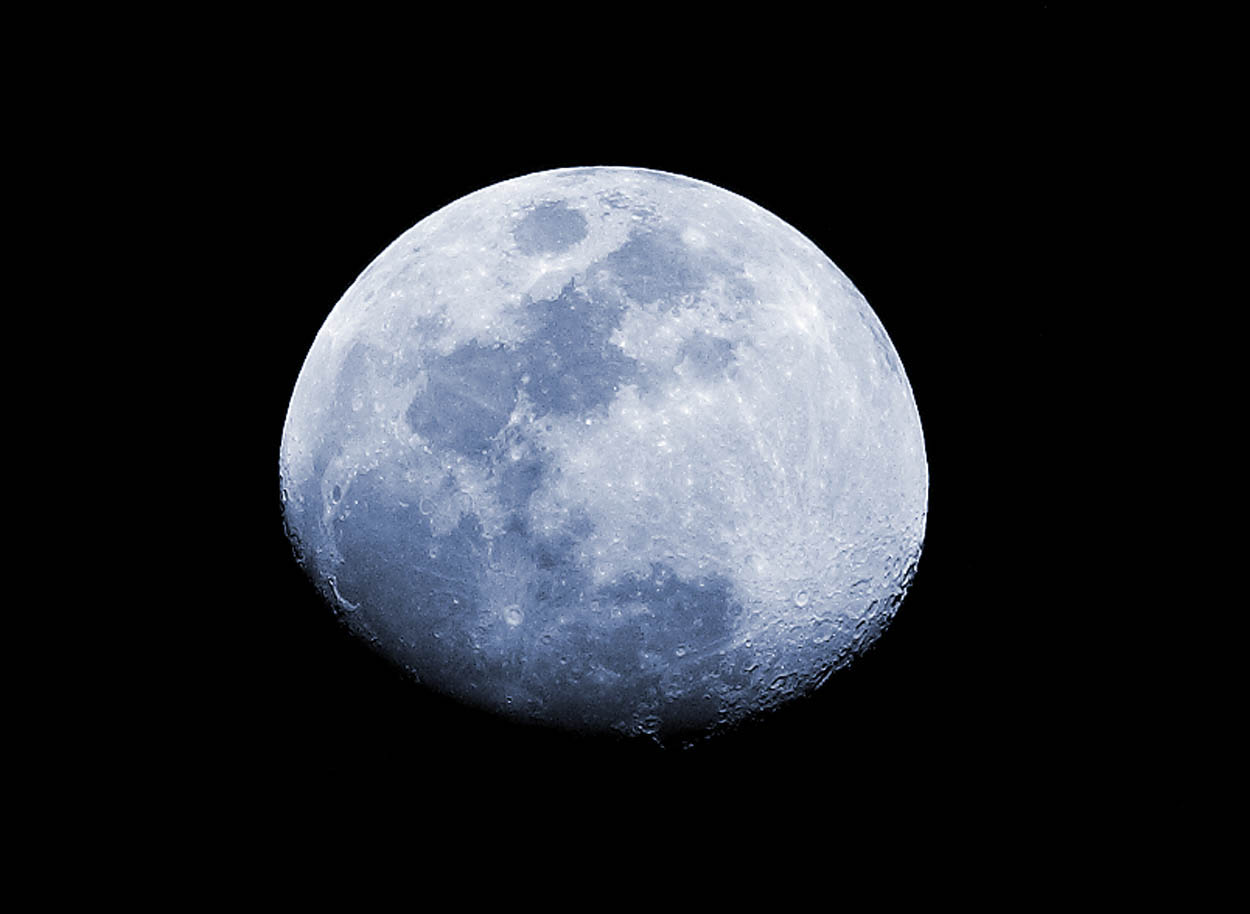crater: (442, 537, 581, 672), (705, 501, 781, 589), (776, 271, 837, 363), (777, 556, 842, 628), (487, 428, 546, 482), (615, 699, 682, 738), (666, 217, 715, 261), (324, 471, 354, 515), (666, 635, 697, 668), (419, 466, 436, 489)
